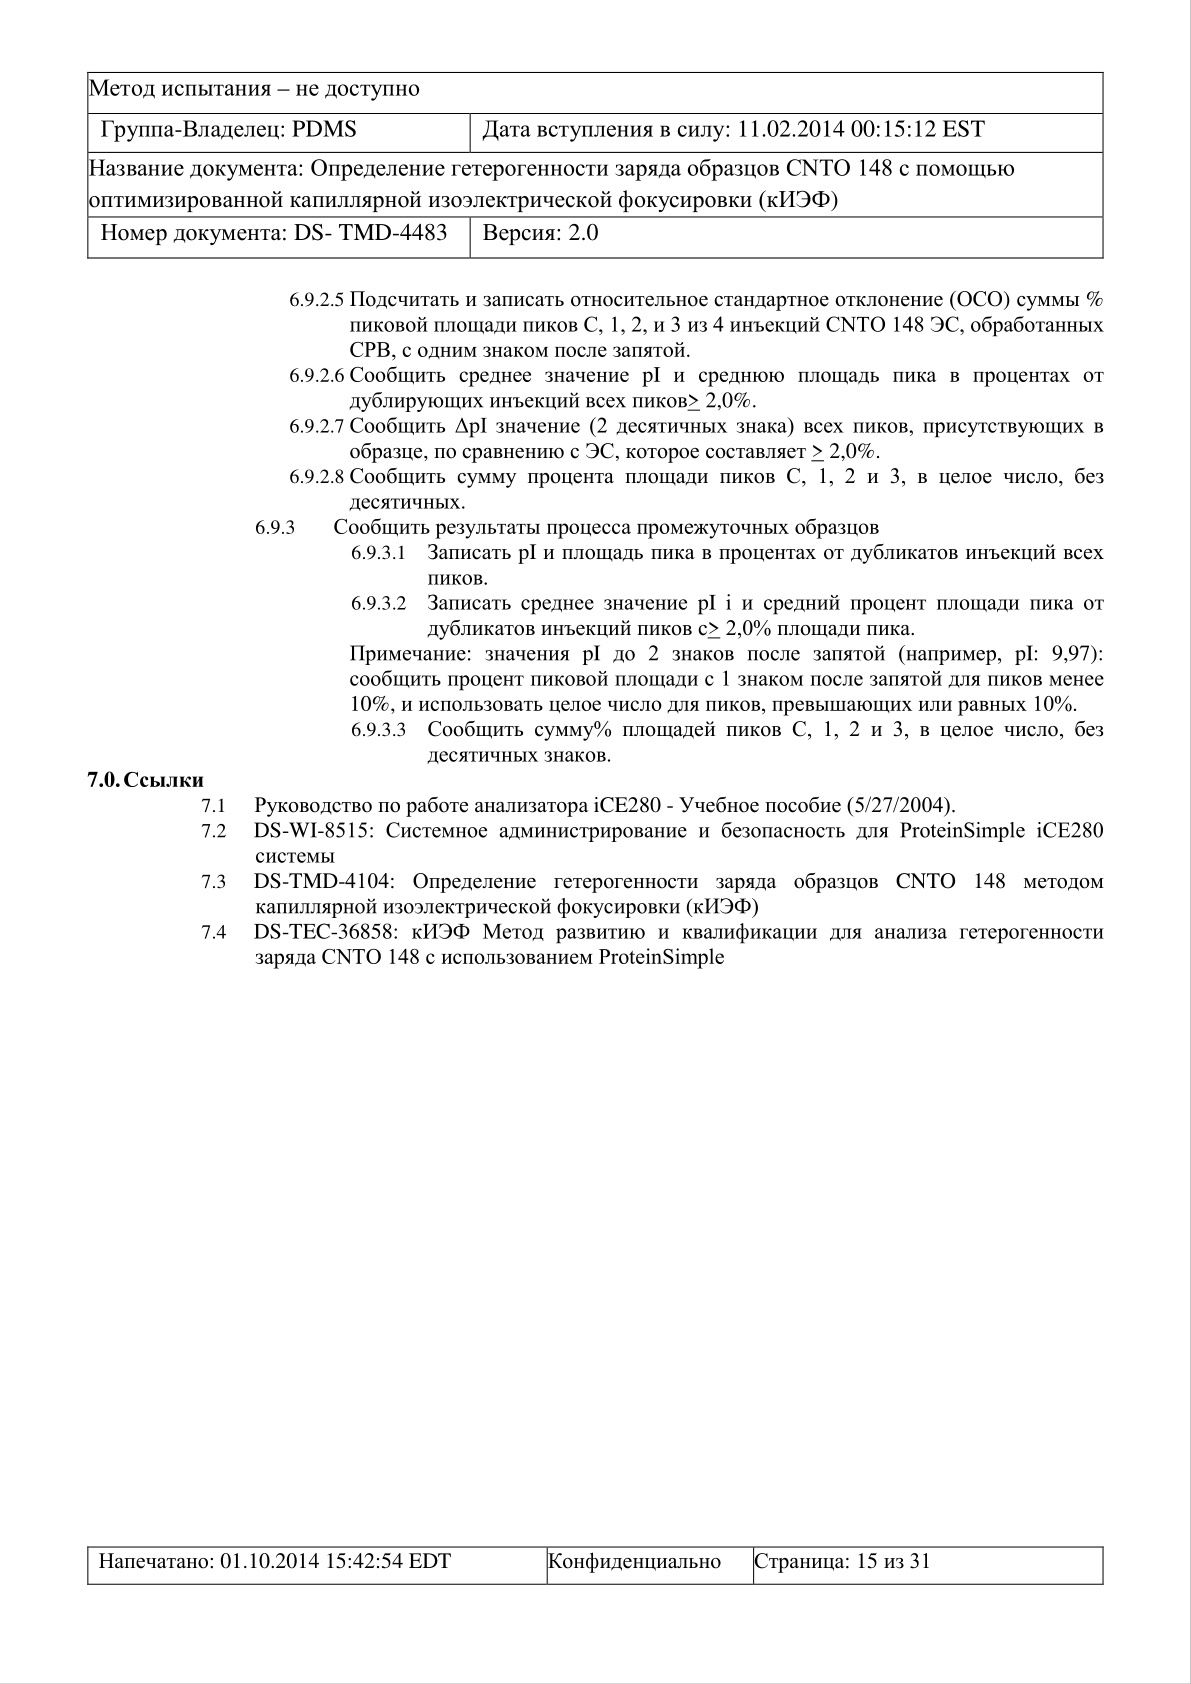full_lined: (85, 1546, 1103, 1584)
merged_cells: (85, 71, 1103, 260)
